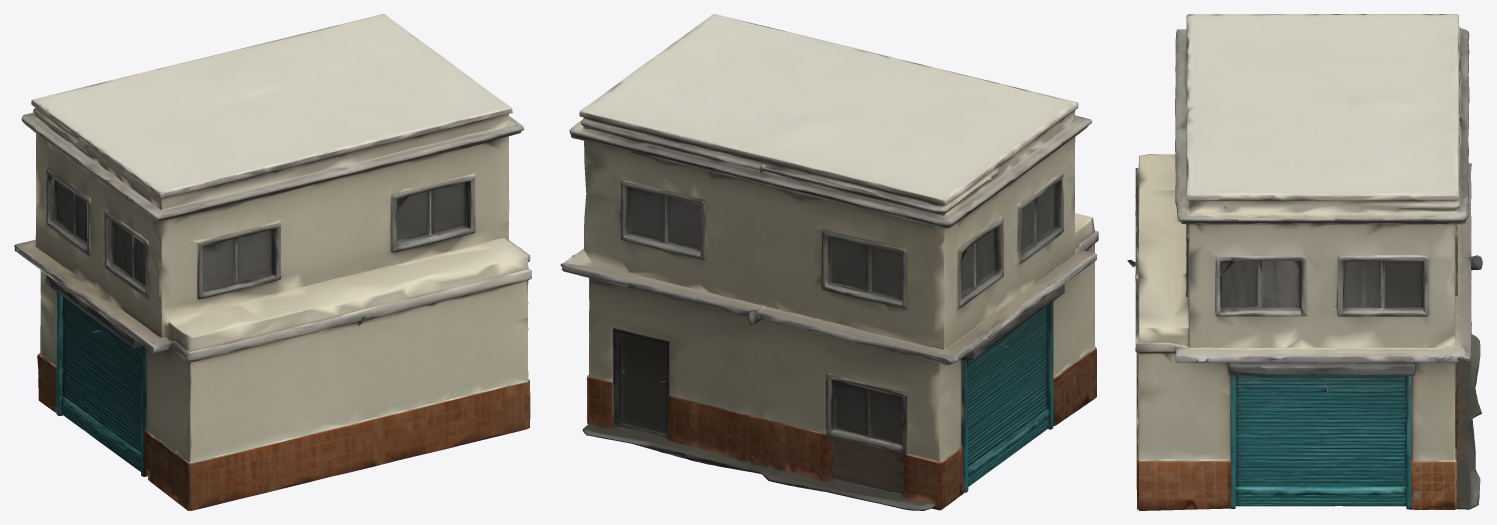
File: taller.glb
3 views of the same model, side by side, from view 1: azimuth 30°, elevation 25°; view 2: azimuth 150°, elevation 25°; view 3: azimuth 270°, elevation 25° (orthographic). The views are drawn at different scales.
Visible parts, largest first — view 1: tripo_node_86ac119d-7172-435c-bda3-2fbd2d2a0eaf; view 2: tripo_node_86ac119d-7172-435c-bda3-2fbd2d2a0eaf; view 3: tripo_node_86ac119d-7172-435c-bda3-2fbd2d2a0eaf.
Boxes of the visible parts, <box> form: tripo_node_86ac119d-7172-435c-bda3-2fbd2d2a0eaf: <box>14,14,531,510</box>; tripo_node_86ac119d-7172-435c-bda3-2fbd2d2a0eaf: <box>560,14,1098,510</box>; tripo_node_86ac119d-7172-435c-bda3-2fbd2d2a0eaf: <box>1127,14,1482,510</box>.
Size of the model in its own units: 8.53 by 6.5 by 6.53.
Materials: 1 (1 with a texture image).
